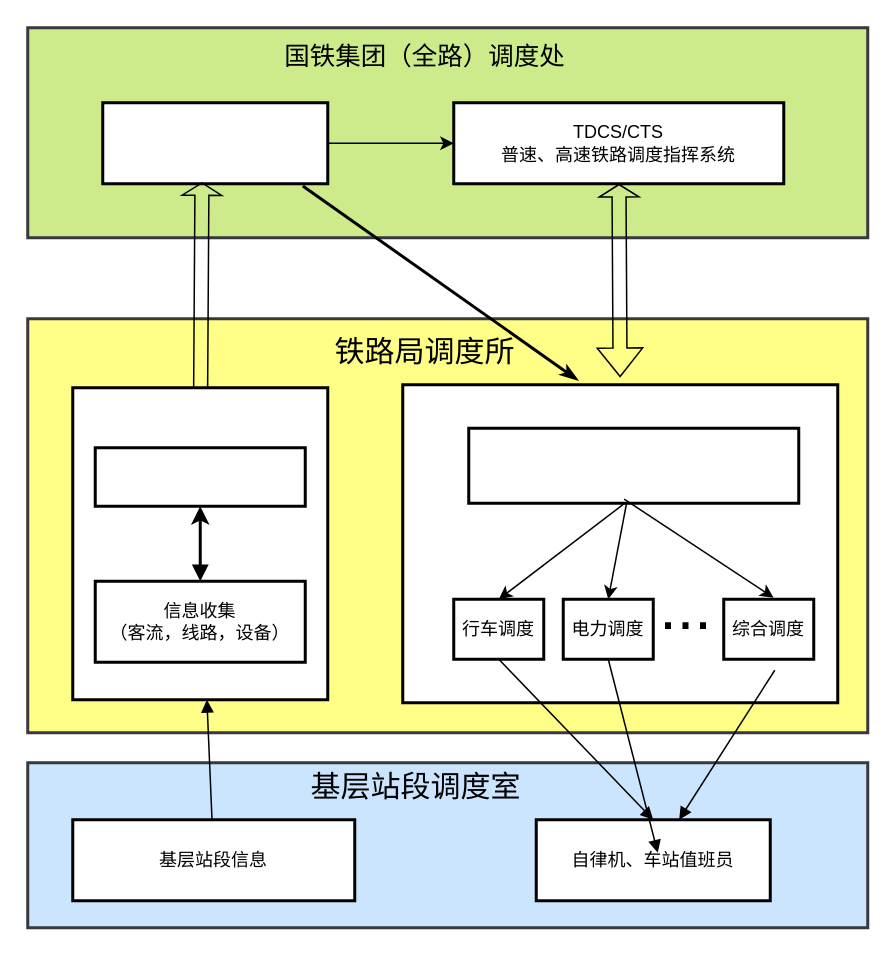
Some shapes in this 894 by 954 pixel diagram are drawn without their labels. Each missing label, with the centre of its shape:
TDMS 运输调度管理系统: (214,142)
路局TDMS: (199,476)
（日班）计划调度: (633,465)
